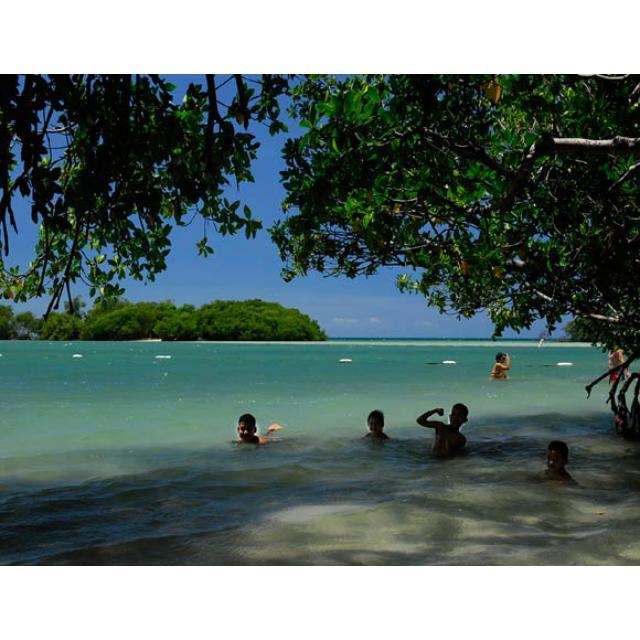human: (418, 396, 478, 468), (233, 409, 279, 445), (542, 436, 576, 482), (364, 405, 391, 439), (488, 351, 511, 377)
